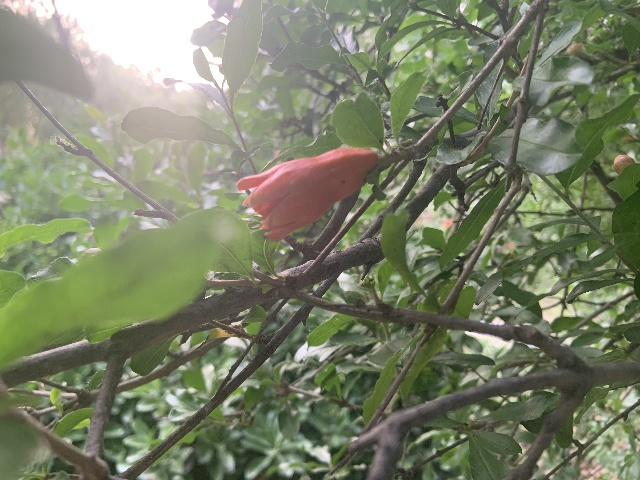flower: (236, 147, 378, 242)
